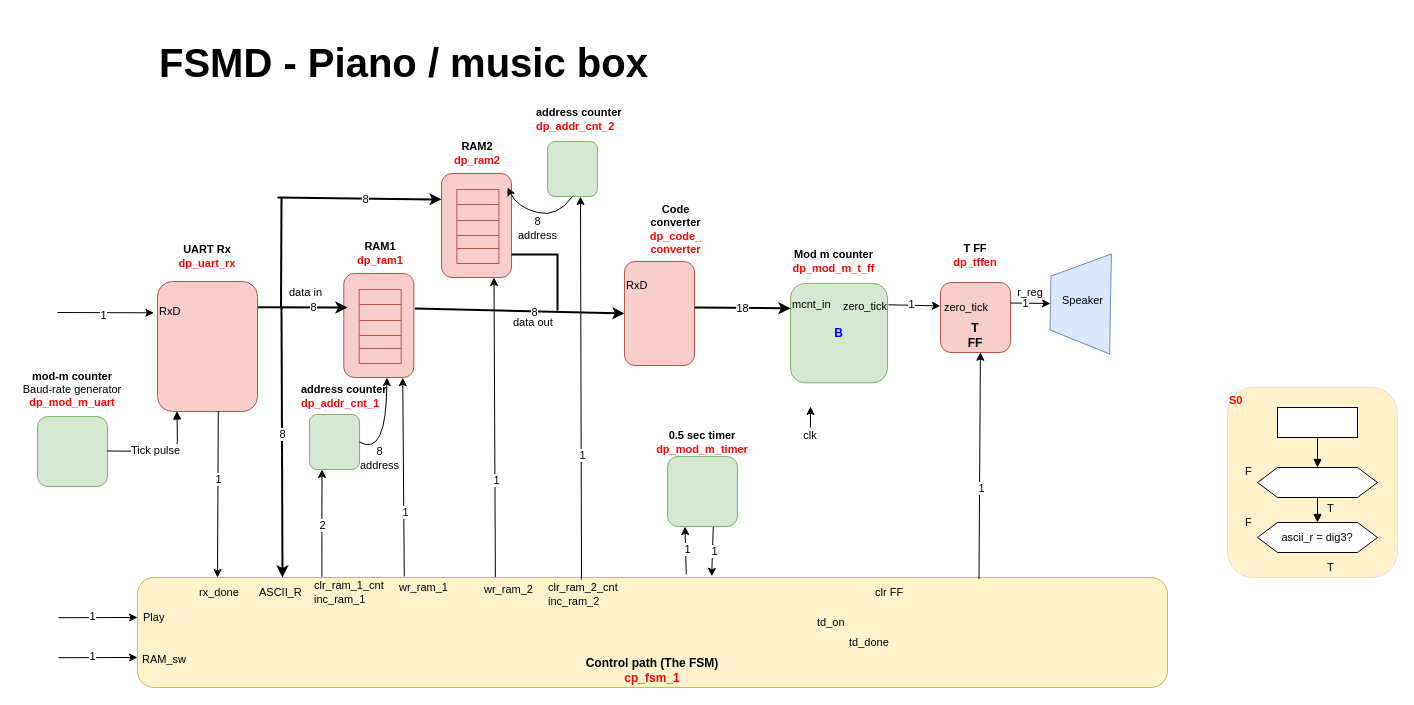
This 1414x705 diagram has some shape labels left out. Here are the shapes that lost their labels. From the top down, the centre of each, then its label:
the point at 572,168: A2
the point at 334,442: A1
the point at 1317,482: rx_done_tick = '1'?
